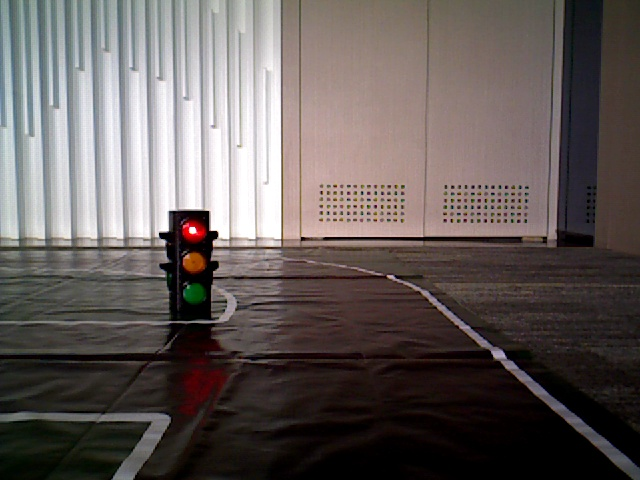red: (172, 212, 208, 307)
